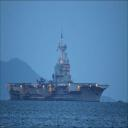Portanaves: (6, 26, 113, 104)
